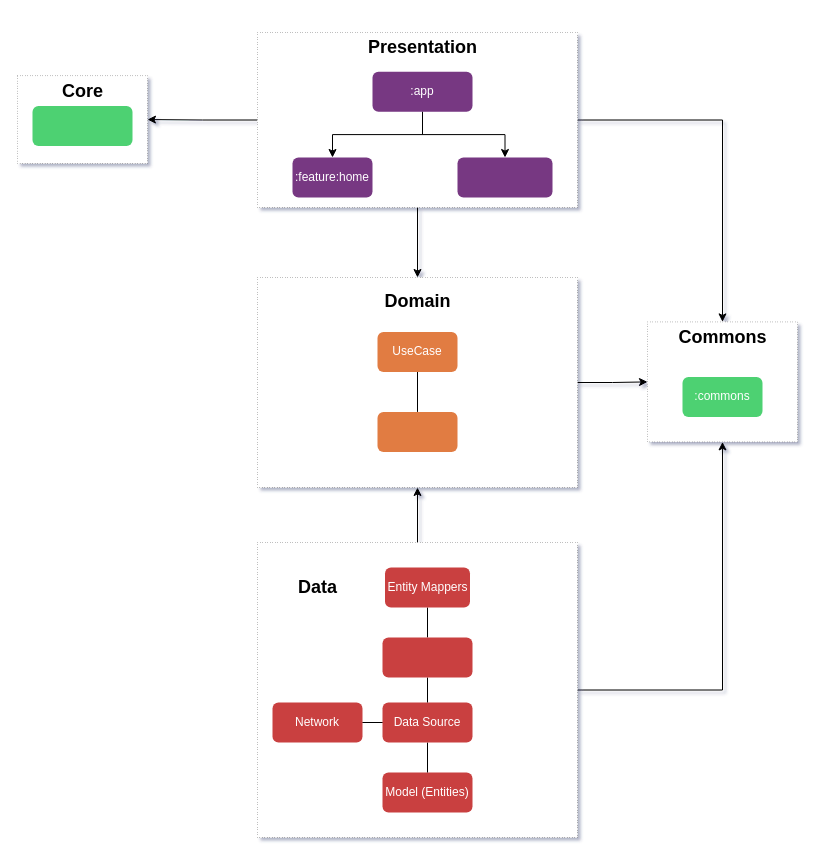
This 821x861 diagram has some shape labels left out. The box of each missing label's shape, as (x1, y1, x2, y2) in pixels:
:feature:details: (457, 157, 552, 197)
:view: (32, 106, 132, 146)
Domain Model: (377, 411, 457, 451)
Repository: (382, 637, 472, 677)
